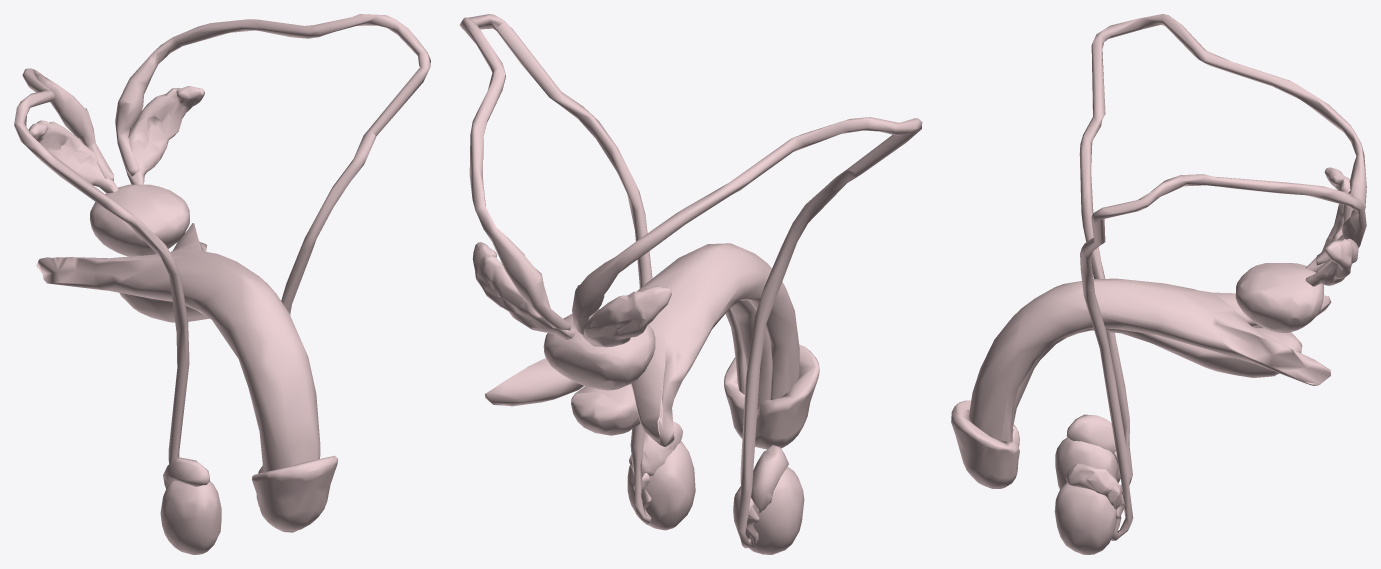
Rendered from genital.glb.
3 views of the same model, side by side, from view 1: azimuth 30°, elevation 25°; view 2: azimuth 150°, elevation 25°; view 3: azimuth 270°, elevation 25° (orthographic). The views are drawn at different scales.
Parts seen in each view (by area): view 1: FMA19618, FMA19236, FMA19235, FMA9600, FMA18247, FMA7211, FMA19388, FMA19387, FMA19617nsn, FMA18256; view 2: FMA19618, FMA19235, FMA19236, FMA9600, FMA19617nsn, FMA18247, FMA7212, FMA19387, FMA7211, FMA19388, FMA18256, FMA18257; view 3: FMA19618, FMA19235, FMA19236, FMA9600, FMA18247, FMA7212, FMA19617nsn, FMA7211, FMA19388, FMA18257, FMA18256, FMA19387.
Part boxes in pixels (x1,y1,x2,y2): FMA19618: (36,223,320,472); FMA19236: (115,14,430,314); FMA19235: (14,68,189,463); FMA9600: (90,184,189,256); FMA18247: (252,455,338,531); FMA7211: (160,480,221,554); FMA19388: (125,86,204,184); FMA19387: (29,120,118,193); FMA19617nsn: (119,293,208,322); FMA18256: (163,457,209,488); FMA19618: (485,243,799,446); FMA19235: (572,117,922,548); FMA19236: (459,14,652,524); FMA9600: (543,309,655,390); FMA19617nsn: (571,300,772,435); FMA18247: (724,344,819,449); FMA7212: (627,441,695,530); FMA19387: (583,286,671,347); FMA7211: (733,467,804,554); FMA19388: (472,242,575,339); FMA18256: (751,445,788,513); FMA18257: (629,421,682,476); FMA19618: (969,278,1331,442); FMA19235: (1079,14,1366,493); FMA19236: (1080,174,1366,540); FMA9600: (1235,263,1323,332); FMA18247: (951,400,1019,488); FMA7212: (1054,482,1116,554); FMA19617nsn: (1011,327,1302,440); FMA7211: (1055,437,1117,488); FMA19388: (1305,238,1358,286); FMA18257: (1066,463,1122,509); FMA18256: (1066,414,1115,453); FMA19387: (1305,167,1350,272).
Bounding box in the file's own units: 0.1577 × 0.1712 × 0.1489.
